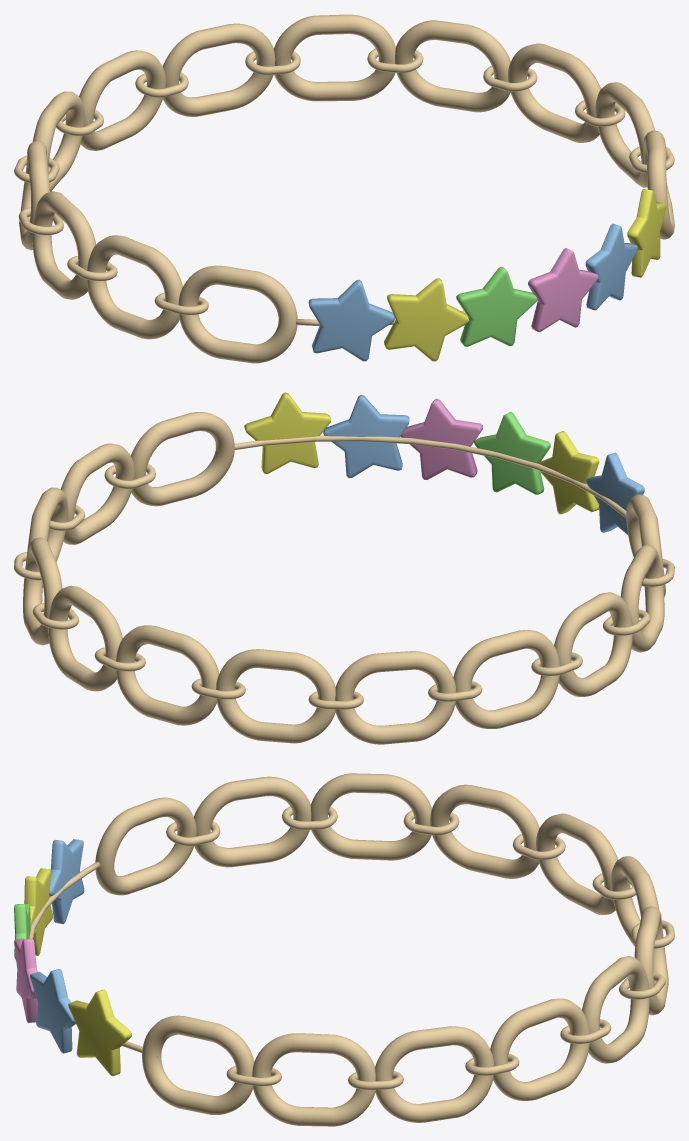
The model's file is bracelet.glb.
3 renders of one model, top to bottom at view 1: azimuth 30°, elevation 25°; view 2: azimuth 150°, elevation 25°; view 3: azimuth 270°, elevation 25°, orthographic.
Parts seen in each view (by area): view 1: chain; view 2: chain; view 3: chain.
Part boxes in pixels (bbox=[...]): chain: bbox=[14, 14, 674, 363]; chain: bbox=[14, 392, 674, 744]; chain: bbox=[14, 773, 674, 1126].
Bounding box in the file's own units: 0.1813 × 0.0268 × 0.1798.
